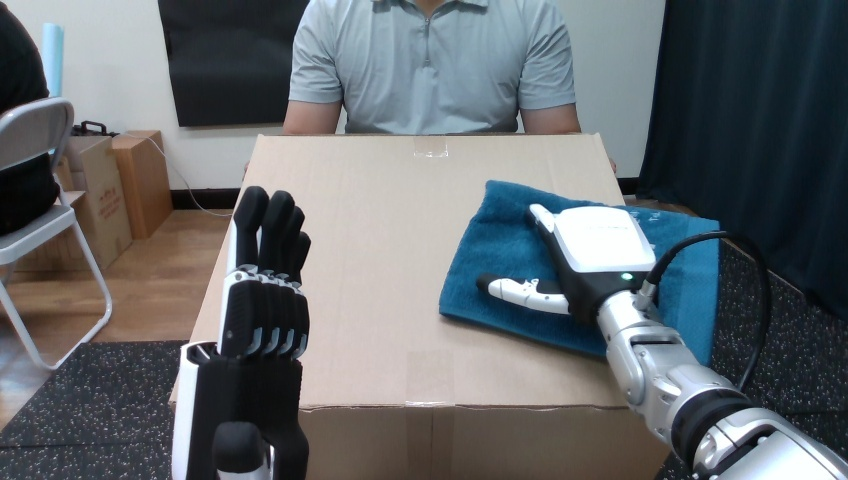left robot hand: (477, 204, 847, 479), (172, 186, 309, 478), (654, 236, 762, 385)
